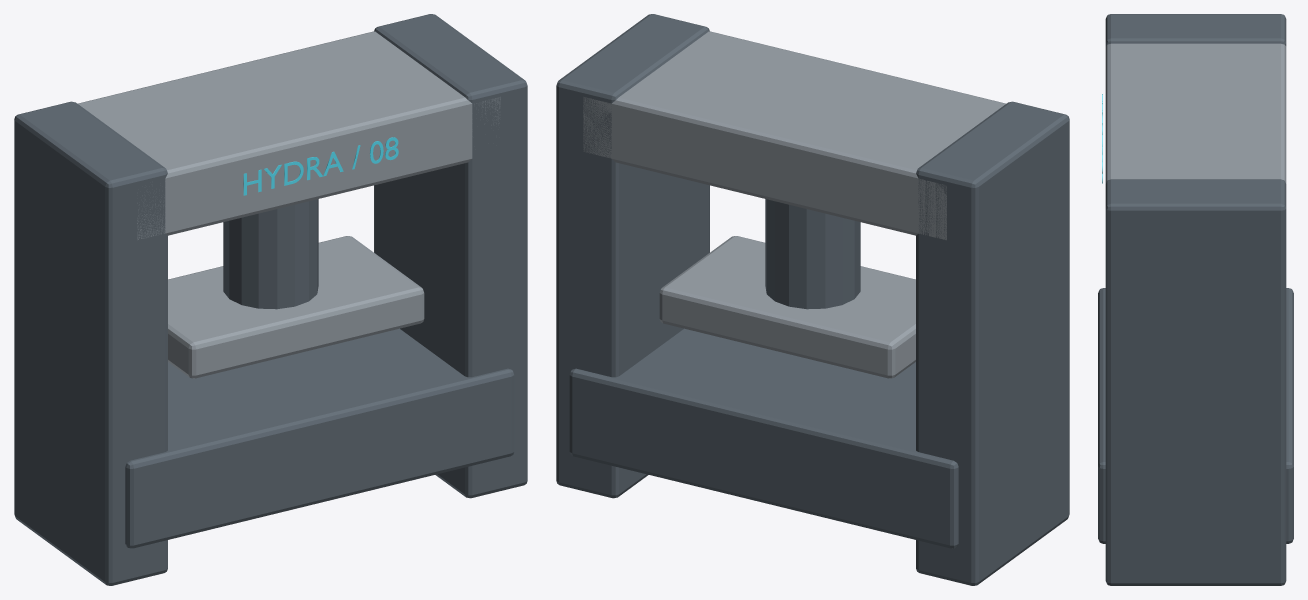
Rendered from 1_Landmark.fbx.
3 renders of one model, left to right at view 1: azimuth 30°, elevation 25°; view 2: azimuth 150°, elevation 25°; view 3: azimuth 270°, elevation 25°, orthographic. The views are drawn at different scales.
Parts seen in each view (by area): view 1: Body; view 2: Body; view 3: Body.
Part boxes in pixels (<box>): Body: <box>14,14,527,585</box>; Body: <box>556,14,1069,585</box>; Body: <box>1098,14,1293,585</box>.
Bounding box in the file's own units: 3.05 × 2.8 × 1.3.
